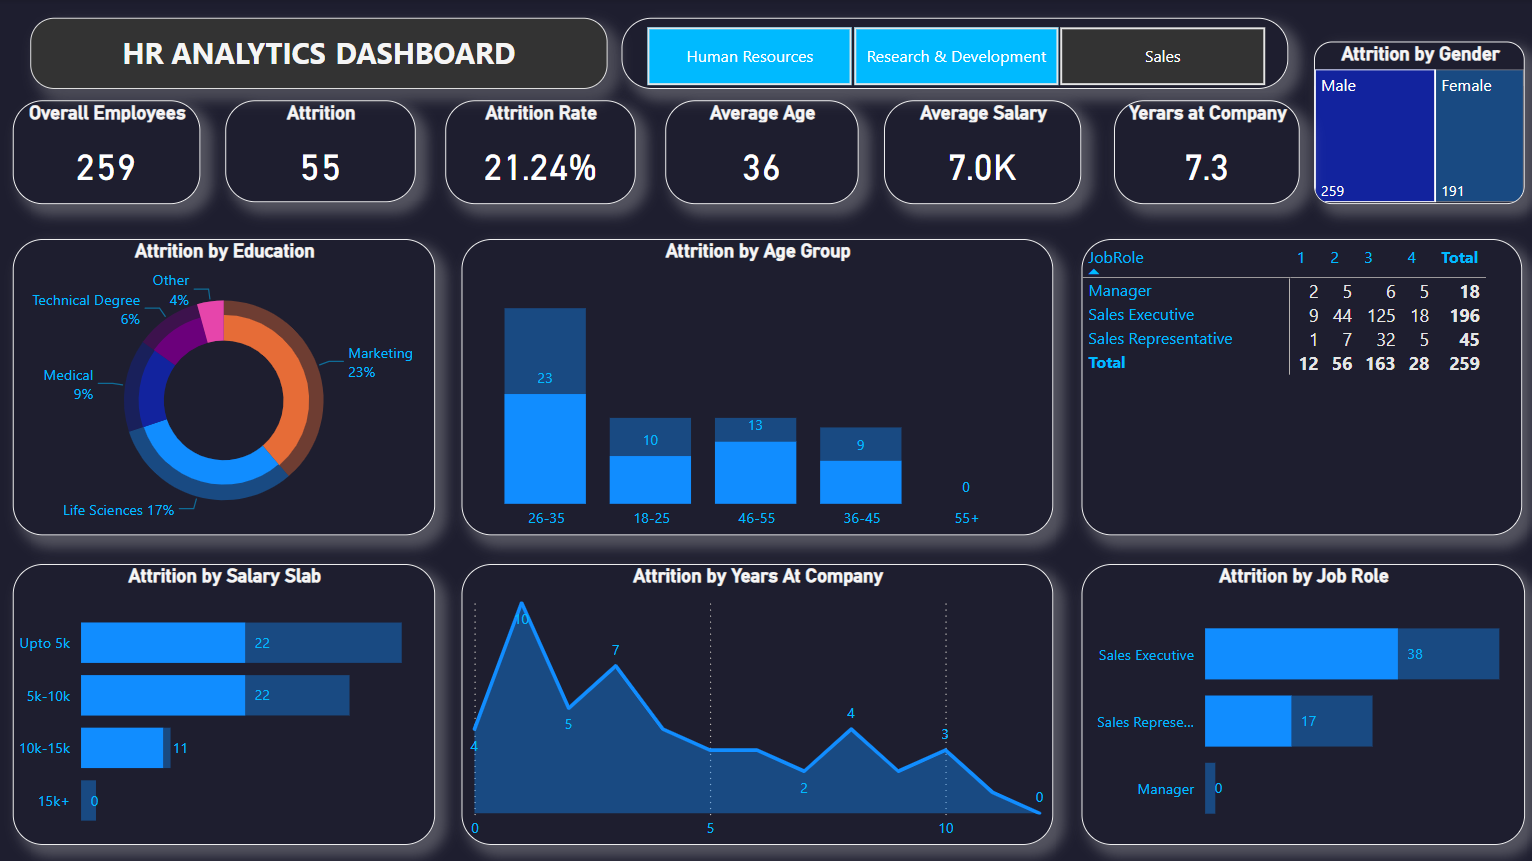

Layout of this report page (visuals, bound fields, positions):
{"tool":"powerbi","page":{"name":"Page 1","canvas":[1280,720],"ordinal":0},"visuals":[{"type":"cardVisual","title":"Attrition Rate","fields":{"Data":["HR_Analytics.Attrition Rate"]},"box":[370.9,83.7,158.1,86],"z":0},{"type":"cardVisual","title":"Attrition","fields":{"Data":["HR_Analytics.Attrition_Sum"]},"box":[188.4,83.7,158.1,84.9],"z":1000},{"type":"cardVisual","title":"Overall Employees","fields":{"Data":["Sum(HR_Analytics.Number of Employee)"]},"box":[11.6,83.7,155.8,86],"z":2000},{"type":"donutChart","title":"Attrition by Education","fields":{"Category":["HR_Analytics.EducationField"],"Y":["Sum(HR_Analytics.Attrition_Number)"]},"box":[11.6,200,351.2,246.5],"z":3000},{"type":"barChart","title":"Attrition by Salary Slab","fields":{"Category":["HR_Analytics.SalarySlab"],"Y":["Sum(HR_Analytics.Attrition_Number)"]},"box":[11.6,469.8,351.2,233.7],"z":4000},{"type":"barChart","title":"Attrition by Job Role","fields":{"Category":["HR_Analytics.JobRole"],"Y":["Sum(HR_Analytics.Attrition_Number)"]},"box":[900,469.8,368.6,233.7],"z":5000},{"type":"slicer","fields":{"Values":["HR_Analytics.Department"]},"box":[517.4,15.1,554.7,59.3],"z":6000},{"type":"pivotTable","fields":{"Columns":["HR_Analytics.WorkLifeBalance"],"Values":["CountNonNull(HR_Analytics.EnvironmentSatisfaction)"],"Rows":["HR_Analytics.JobRole"]},"box":[900,200,366.3,246.5],"z":7000},{"type":"columnChart","title":"Attrition by Age Group","fields":{"Y":["Sum(HR_Analytics.Attrition_Number)"],"Category":["HR_Analytics.AgeGroup"]},"box":[384.9,200,491.9,246.5],"z":8000},{"type":"areaChart","title":"Attrition by Years At Company","fields":{"Y":["Sum(HR_Analytics.Attrition_Number)"],"Category":["HR_Analytics.YearsAtCompany"]},"box":[384.9,469.8,491.9,233.7],"z":9000},{"type":"treemap","title":"Attrition by Gender","fields":{"Details":["HR_Analytics.Gender"],"Values":["CountNonNull(HR_Analytics.EmpID)"]},"box":[1093,34.9,175.6,134.9],"z":10000},{"type":"cardVisual","title":"Average Age","fields":{"Data":["Avg(HR_Analytics.Age)"]},"box":[553.5,83.7,160.5,86],"z":11000},{"type":"cardVisual","title":"Average Salary","fields":{"Data":["HR_Analytics.AvgSalary"]},"box":[736,83.7,164,86],"z":12000},{"type":"cardVisual","title":"Yerars at Company","fields":{"Data":["Avg(HR_Analytics.YearsAtCompany)"]},"box":[926.7,83.7,154.7,86],"z":13000},{"type":"textbox","box":[25.6,15.1,480.2,59.3],"z":14000}]}

Visuals, with their boxes in screenshot pixels (x1, y1, x2, y2), scaled from the page's 1280x720 canvas onto the 1532x861 screenshot:
"Attrition Rate" cardVisual: bbox=(444, 100, 633, 203)
"Attrition" cardVisual: bbox=(225, 100, 415, 202)
"Overall Employees" cardVisual: bbox=(14, 100, 200, 203)
"Attrition by Education" donutChart: bbox=(14, 239, 434, 534)
"Attrition by Salary Slab" barChart: bbox=(14, 562, 434, 841)
"Attrition by Job Role" barChart: bbox=(1077, 562, 1518, 841)
slicer - HR_Analytics.Department: bbox=(619, 18, 1283, 89)
pivotTable - HR_Analytics.WorkLifeBalance x CountNonNull(HR_Analytics.EnvironmentSatisfaction): bbox=(1077, 239, 1516, 534)
"Attrition by Age Group" columnChart: bbox=(461, 239, 1049, 534)
"Attrition by Years At Company" areaChart: bbox=(461, 562, 1049, 841)
"Attrition by Gender" treemap: bbox=(1308, 42, 1518, 203)
"Average Age" cardVisual: bbox=(662, 100, 855, 203)
"Average Salary" cardVisual: bbox=(881, 100, 1077, 203)
"Yerars at Company" cardVisual: bbox=(1109, 100, 1294, 203)
textbox: bbox=(31, 18, 605, 89)
